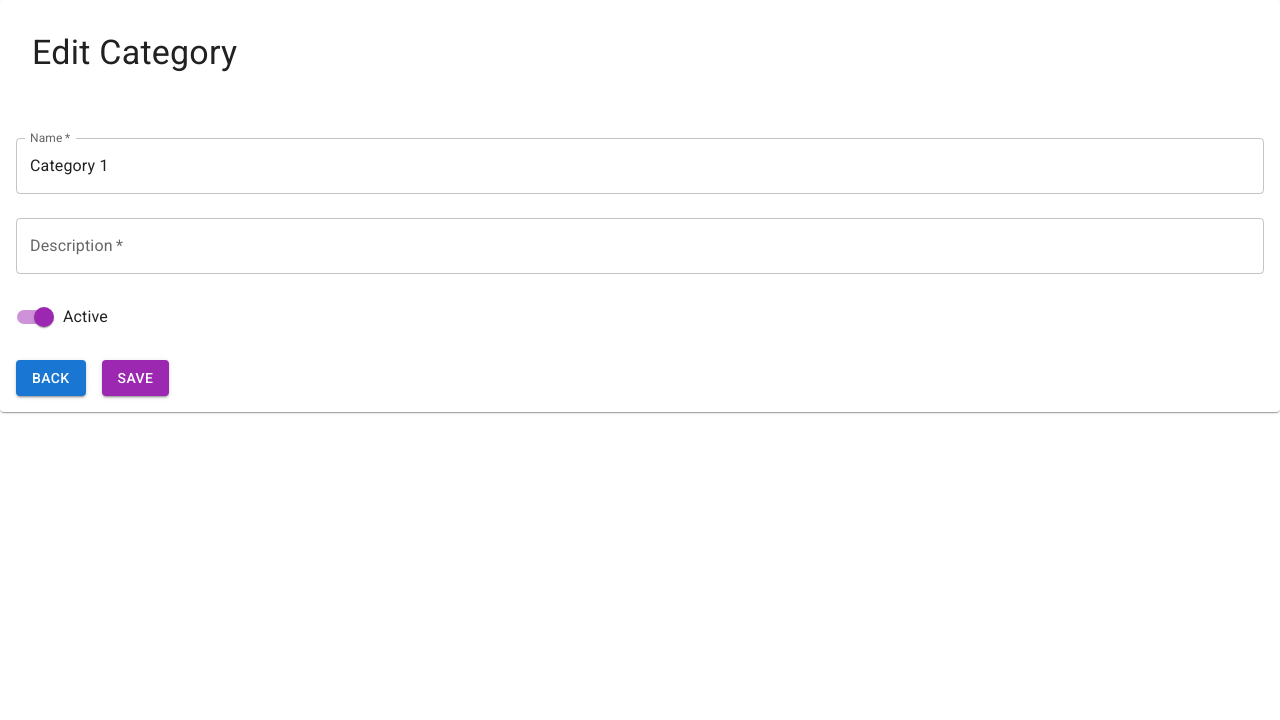
EditCategory › should handle submit
Replace the text in the field with test id "name" with "Category 2": (640, 166) [16,138,1264,194]
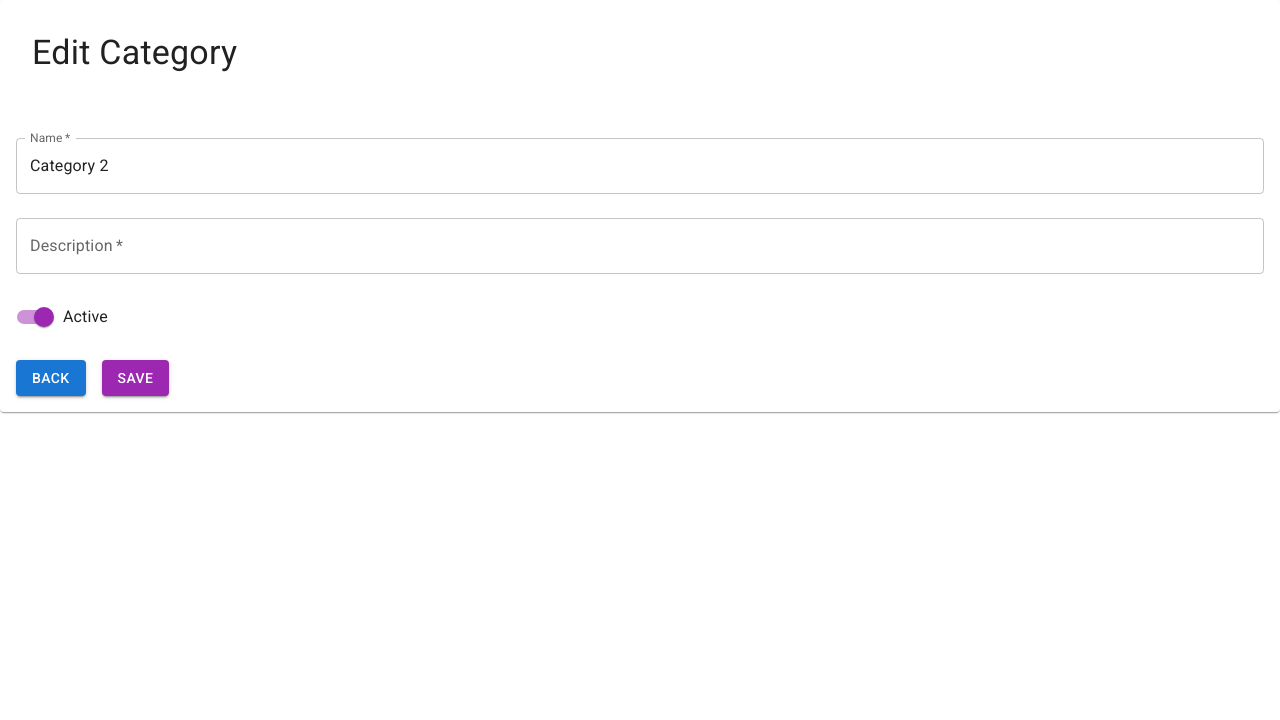
In the field with test id "description": (640, 246) [16,218,1264,274], type "Description 2"
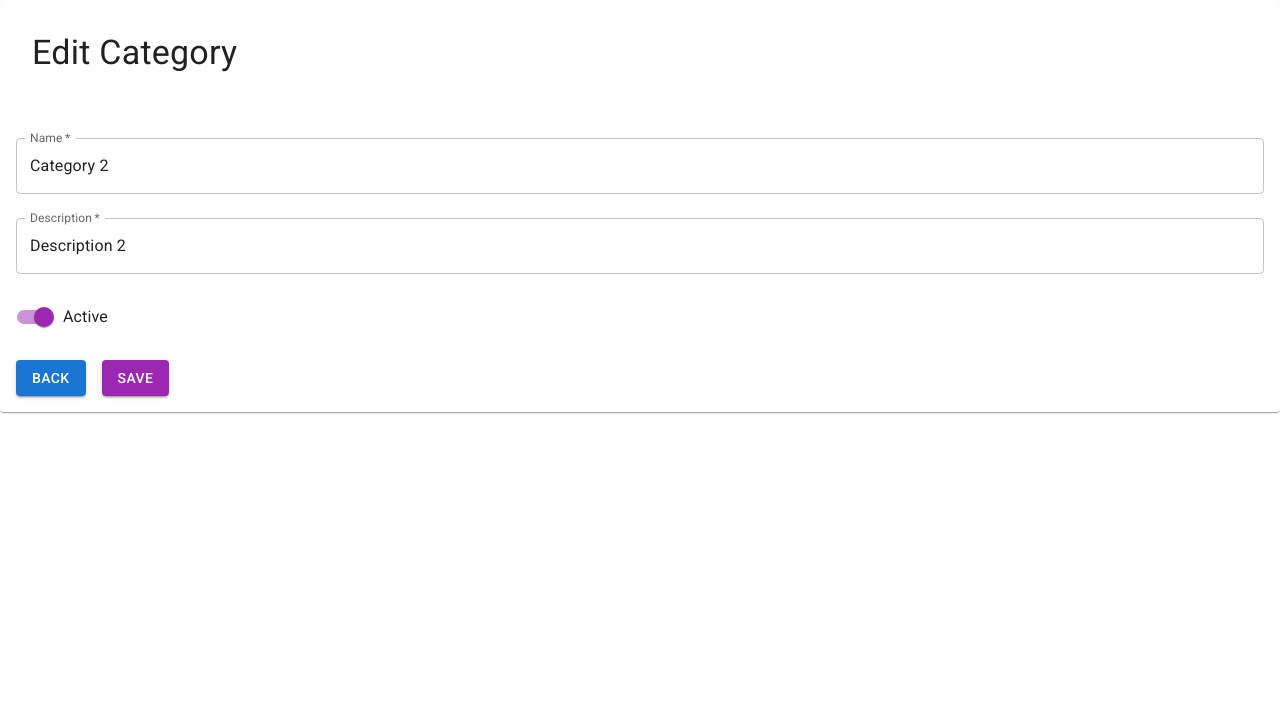
Click the element with test id "is_active": (44, 317) [34,307,54,327]
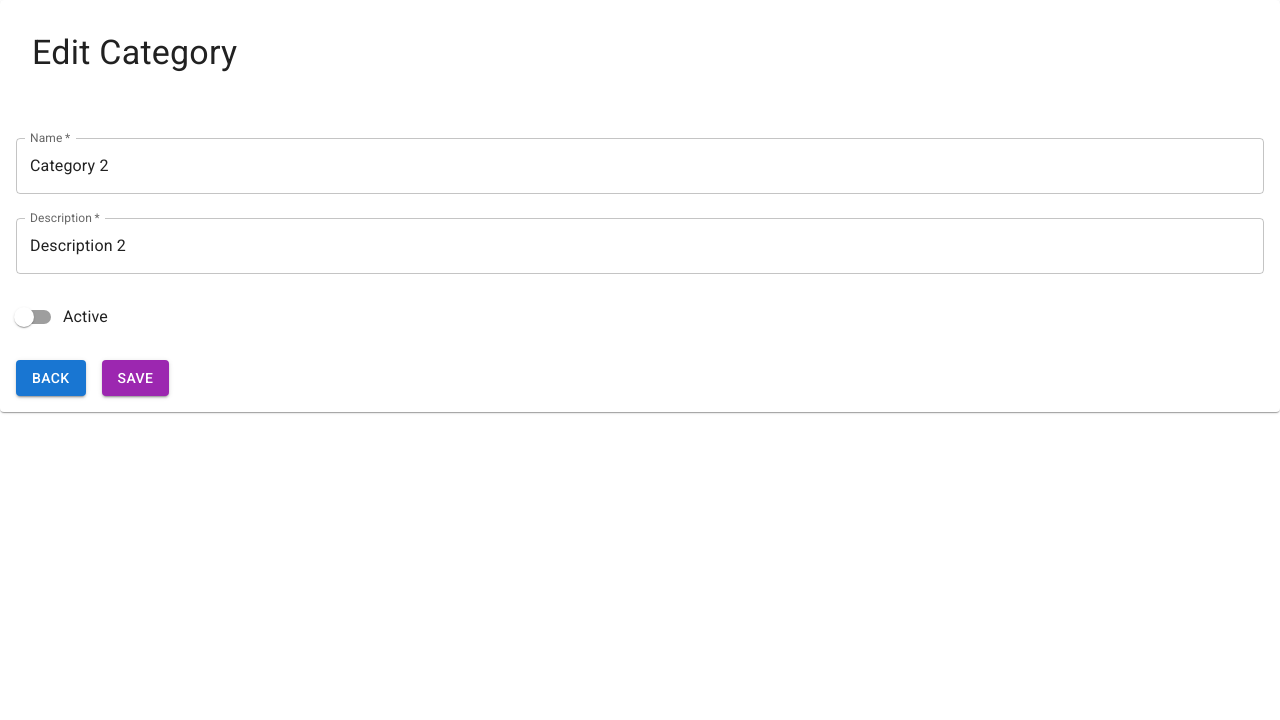
Click the button "Save": (136, 378) [102,360,169,396]
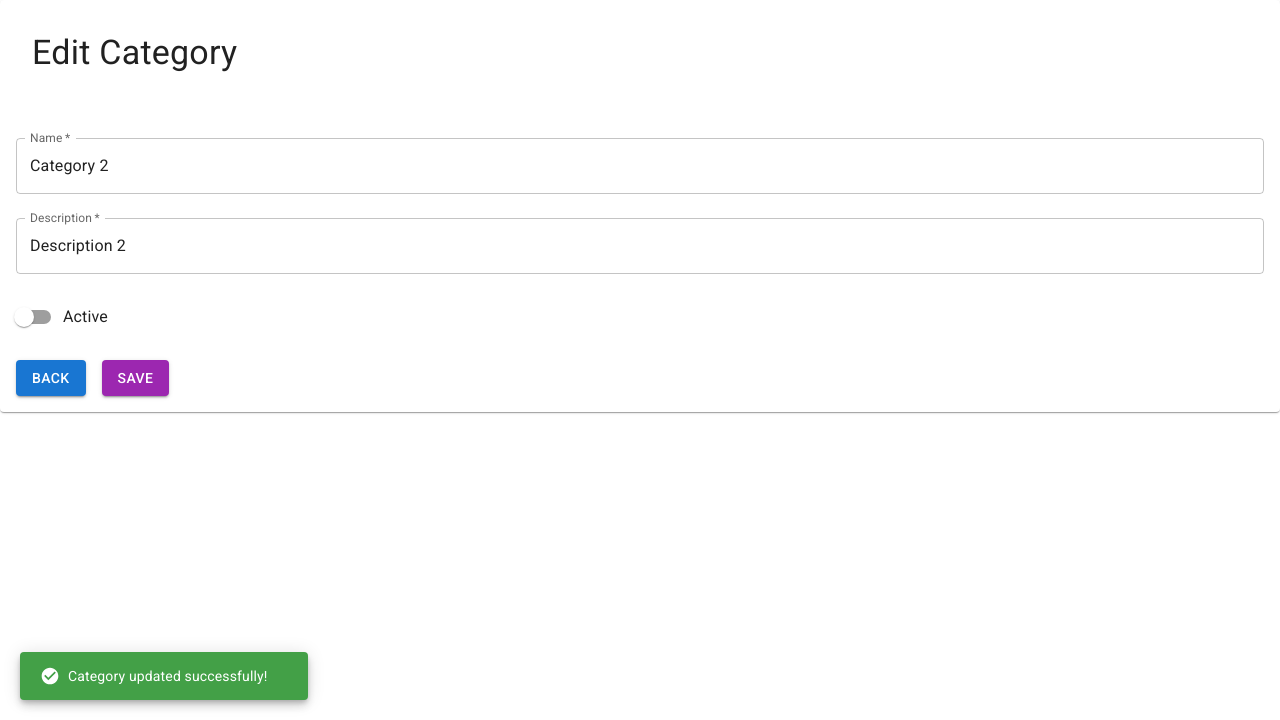
Check: the text "Category updated successfully!" is shown, box [40,666,268,686]
